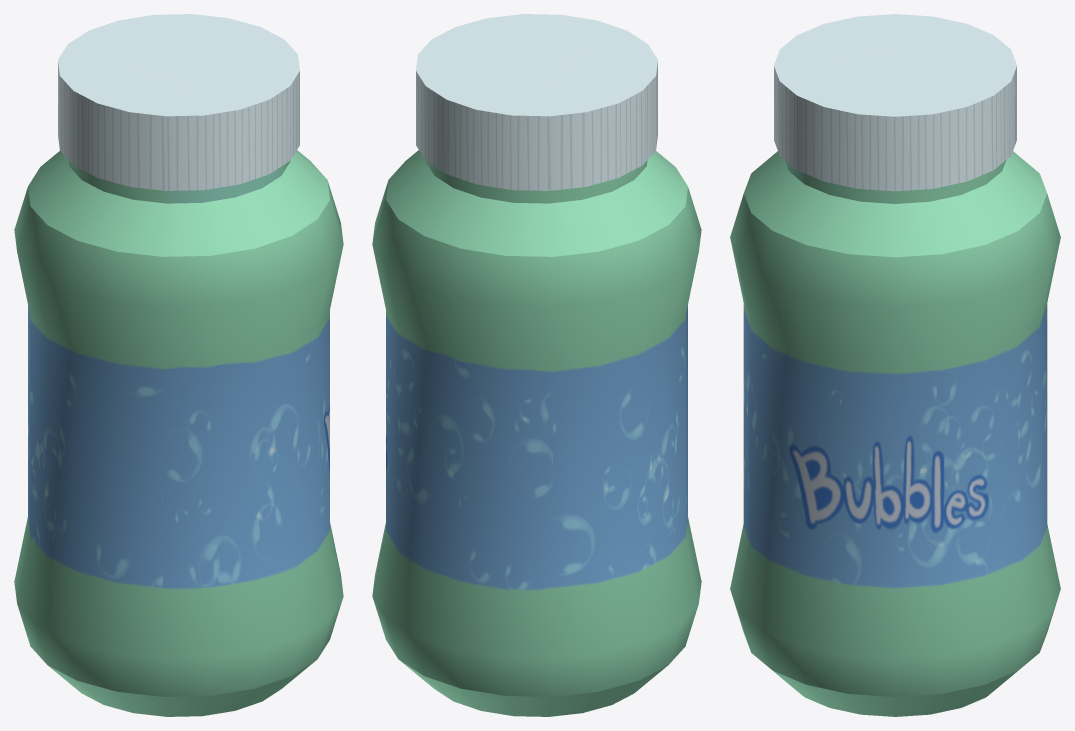
The model's file is bottle.fbx.
The picture shows the model from 3 angles, left to right: view 1: azimuth 30°, elevation 25°; view 2: azimuth 150°, elevation 25°; view 3: azimuth 270°, elevation 25°; orthographic projection.
Visible parts, largest first — view 1: Bubblebottle; view 2: Bubblebottle; view 3: Bubblebottle.
Boxes of the visible parts, x1,y1,x2,y2 form: Bubblebottle: (14, 14, 343, 716); Bubblebottle: (372, 14, 701, 716); Bubblebottle: (730, 14, 1060, 716).
Size of the model in its own units: 2.18 by 4.39 by 2.18.
1 material, 1 textured.
